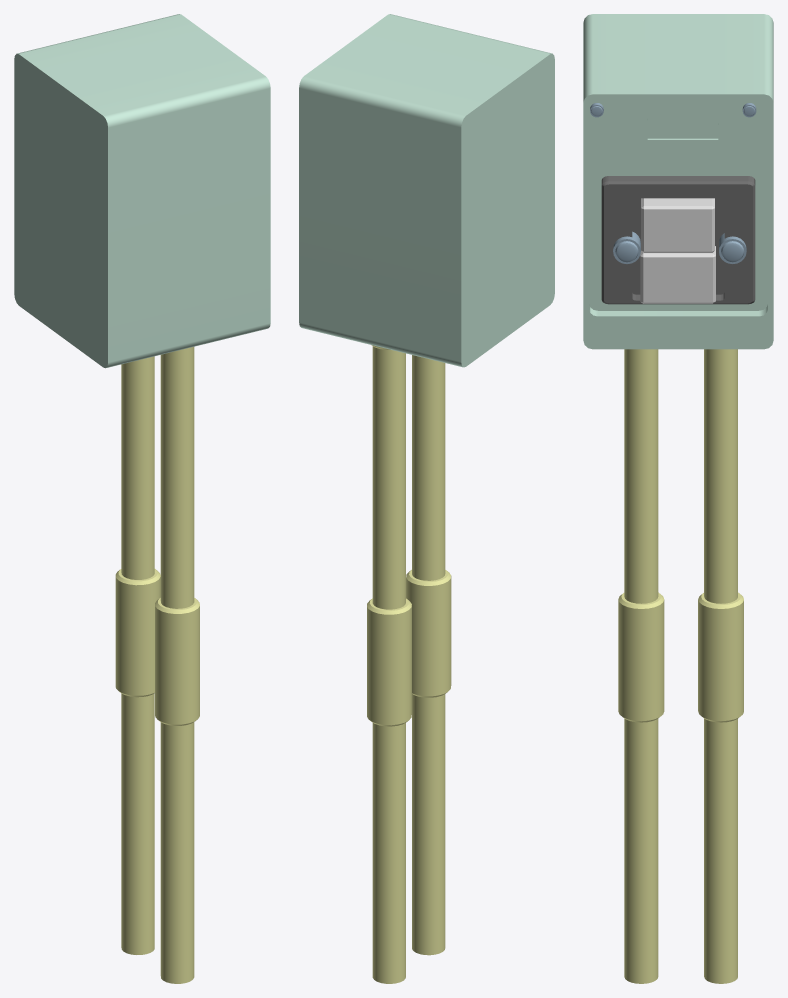
The model's file is Interrupteur.fbx.
3 renders of one model, left to right at view 1: azimuth 30°, elevation 25°; view 2: azimuth 150°, elevation 25°; view 3: azimuth 270°, elevation 25°, orthographic.
Parts seen in each view (by area): view 1: polySurface131, pCylinder131, pCylinder130; view 2: polySurface131, pCylinder130, pCylinder131; view 3: polySurface131, pCylinder131, pCylinder130, polySurface132, pCube58, pCube59, pCylinder126, pCylinder127.
Boxes of the visible parts, x1,y1,x2,y2 form: polySurface131: (14,14,270,368); pCylinder131: (155,347,199,983); pCylinder130: (115,356,160,954); polySurface131: (299,14,554,367); pCylinder130: (367,345,411,983); pCylinder131: (406,355,451,955); polySurface131: (583,14,773,349); pCylinder131: (618,349,664,983); pCylinder130: (698,349,743,983); polySurface132: (601,176,755,304); pCube58: (641,198,714,252); pCube59: (640,246,715,303); pCylinder126: (613,231,640,263); pCylinder127: (719,233,746,263).
Bounding box in the file's own units: 1.08 × 5.3 × 1.
